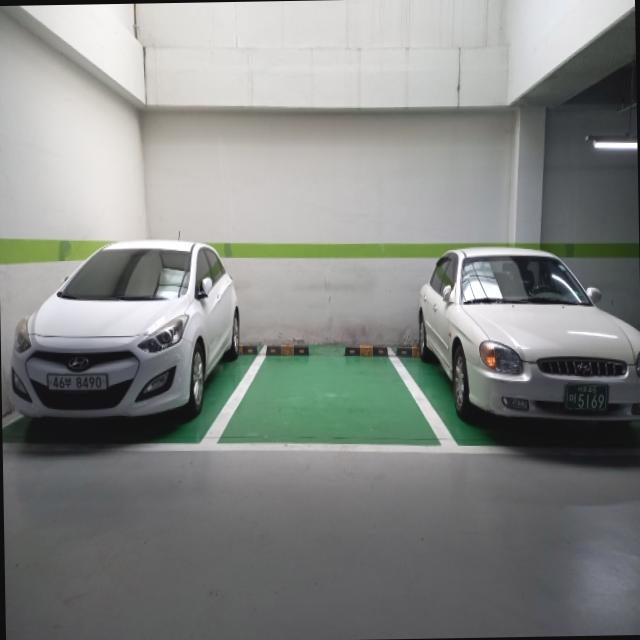car: (3, 242, 250, 453), (413, 248, 640, 456)
free: (216, 352, 446, 453)
